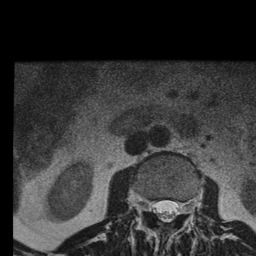CCS_normal: (162, 193, 170, 227)
LFS_normal: (179, 193, 188, 219)
LLS_normal: (170, 193, 179, 224)
RFS_normal: (143, 192, 153, 221)
RLS_normal: (153, 194, 162, 223)
